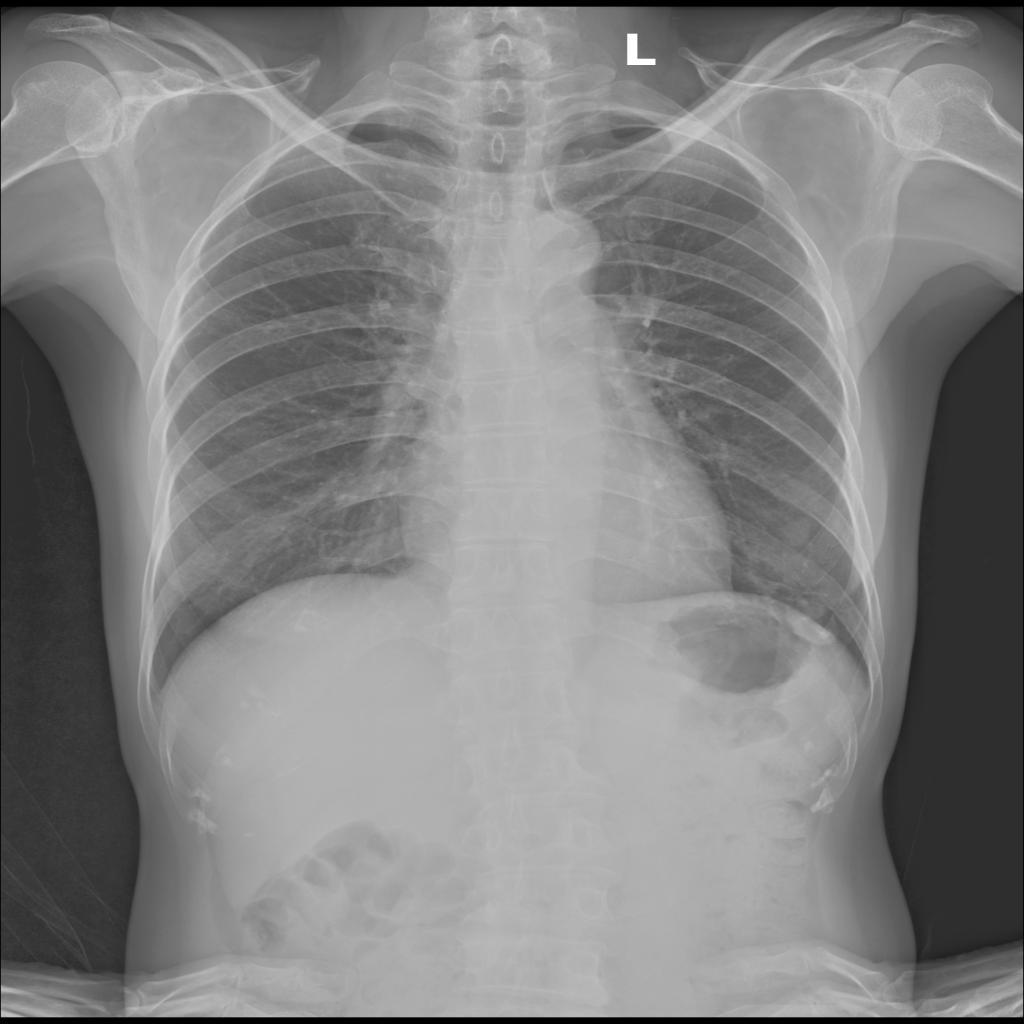Nodule: (778, 515, 812, 547)
